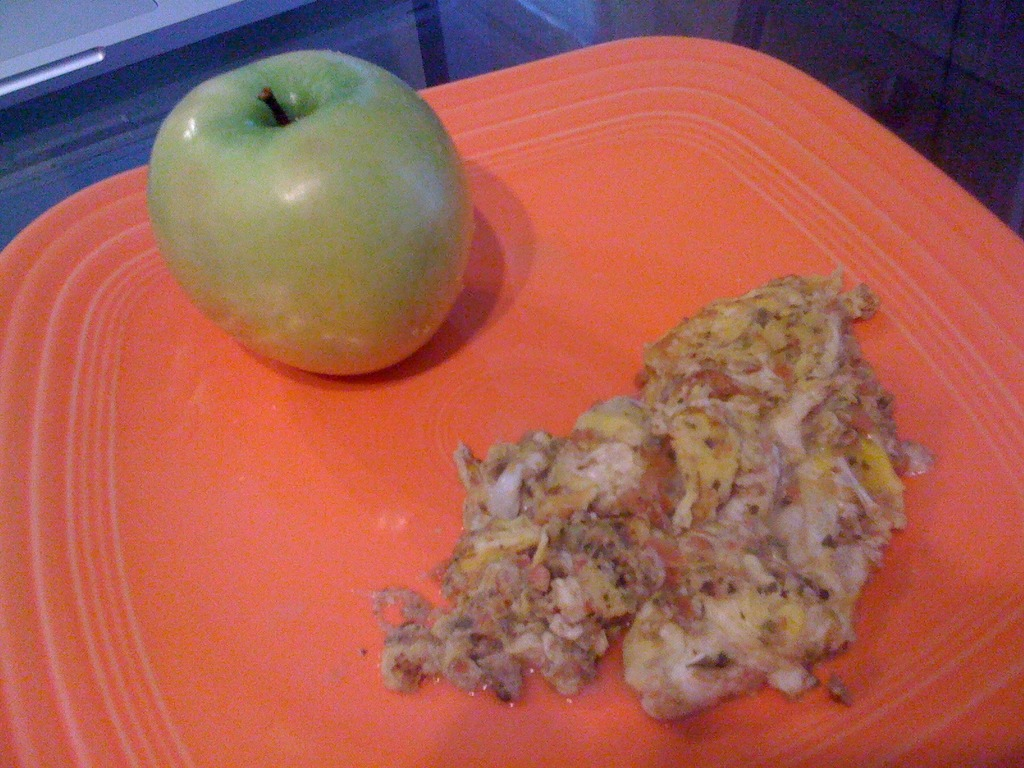Apple: (149, 51, 471, 389)
